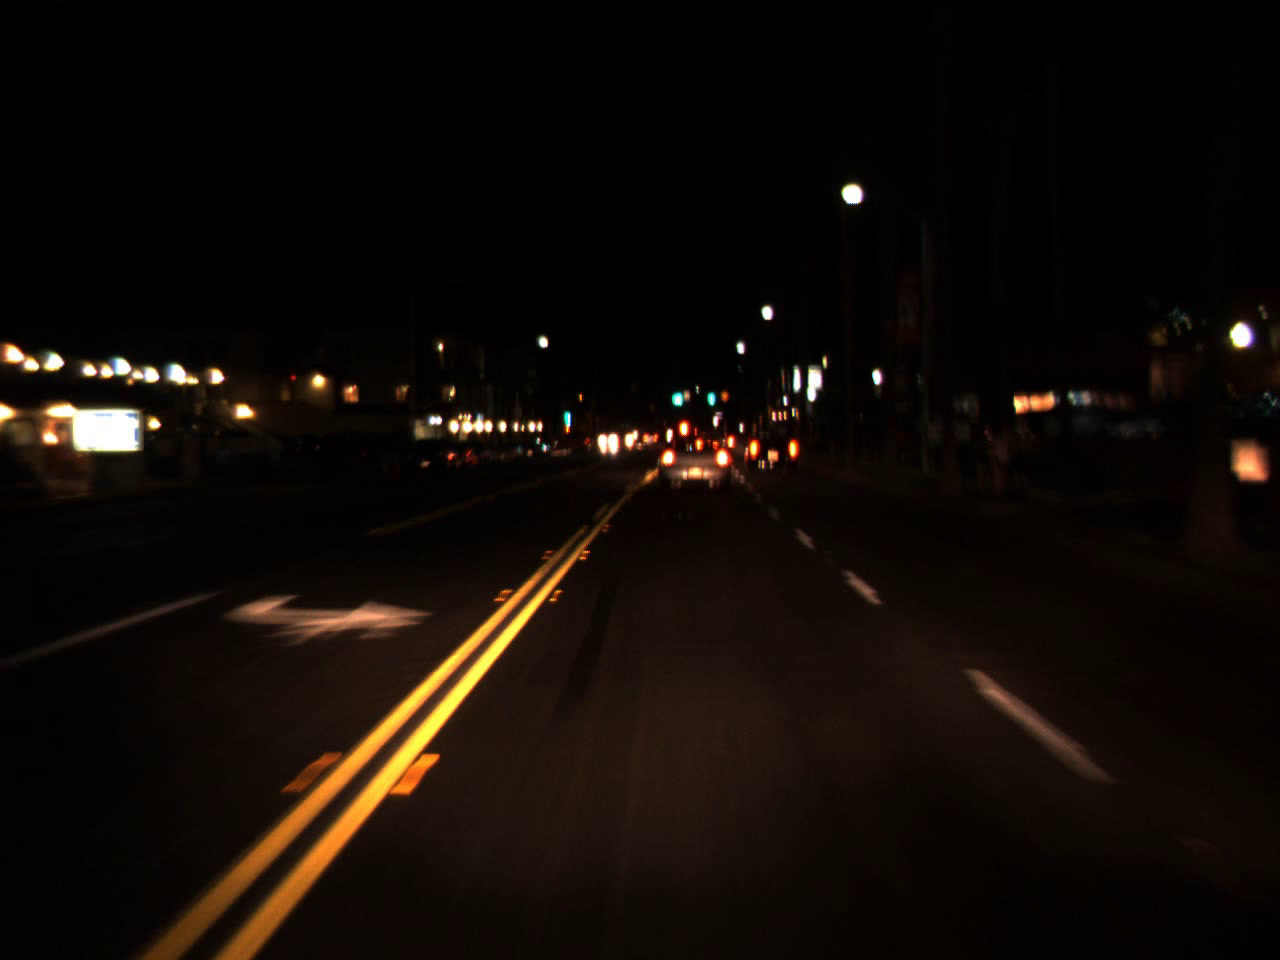go: (667, 376, 685, 409), (705, 377, 715, 410), (561, 397, 571, 427)
